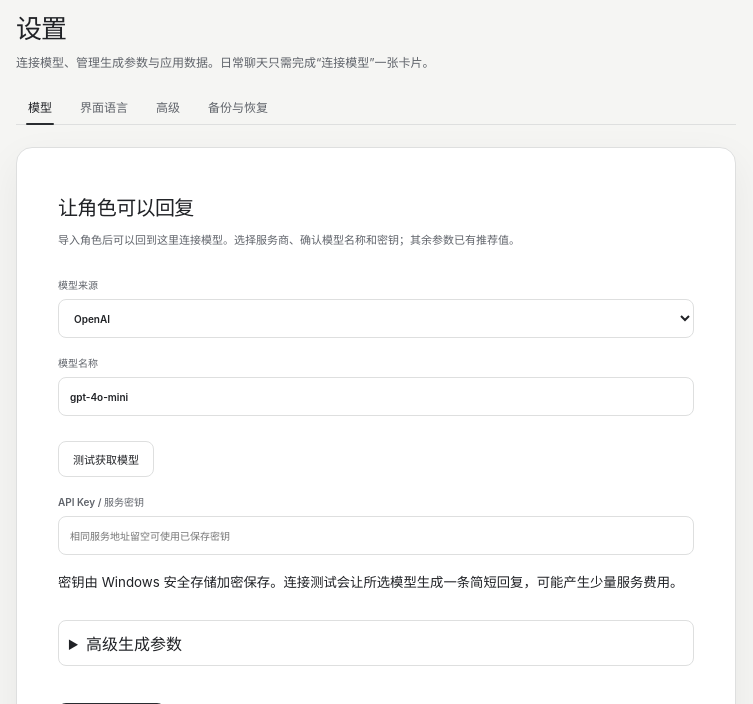
forwards the request failure as a message instead of throwing
This screenshot has width=753, height=704.
What coordinates should you click on to do the following:
click the button "测试获取模型"
I would click on:
 (106, 460)
Its box is [58,442,154,478].
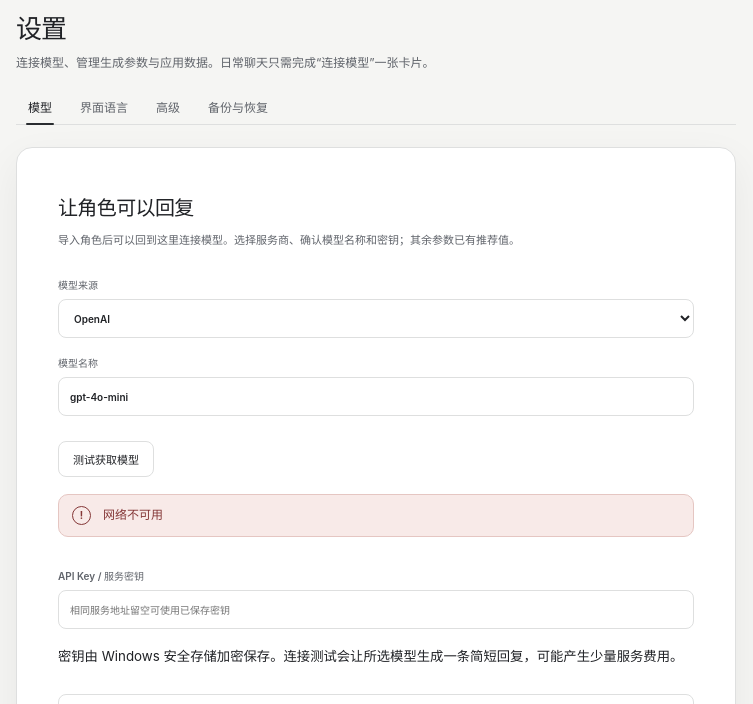
Check: the text "网络不可用" is shown, box [103,508,163,522]
